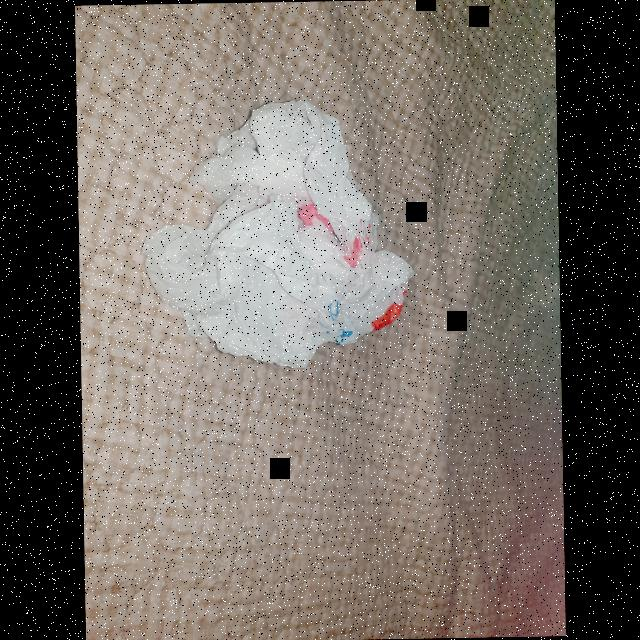plastic_bag: (130, 87, 420, 387)
